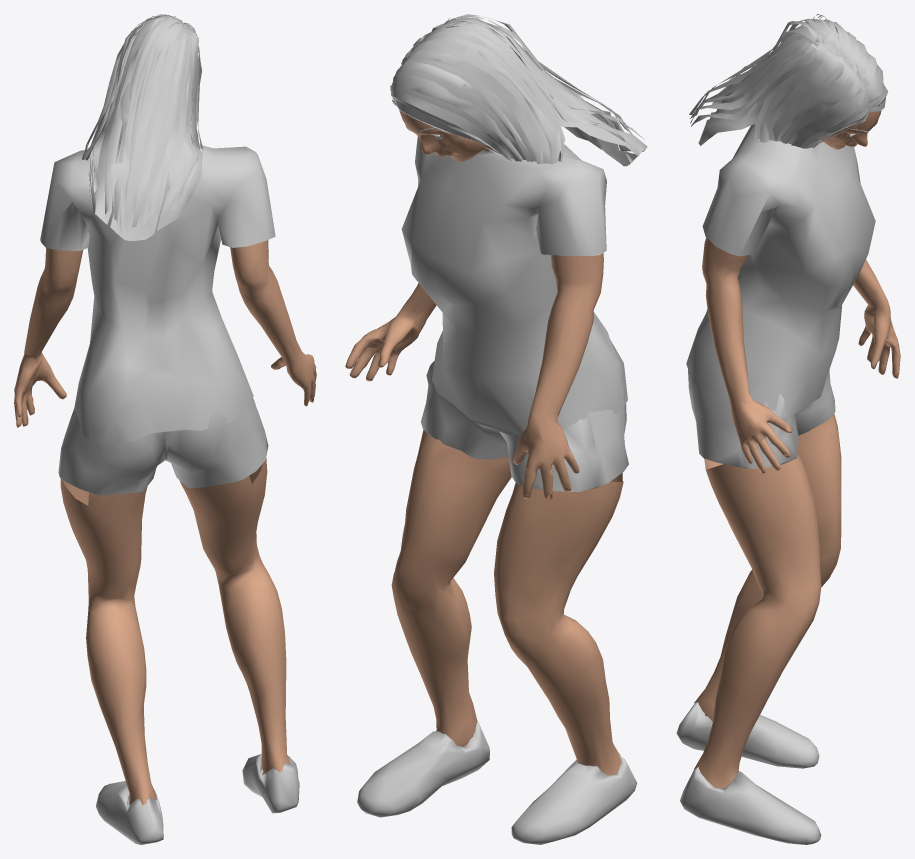
Rendered from player2att_000004.obj.
The picture shows the model from 3 angles, left to right: view 1: azimuth 30°, elevation 25°; view 2: azimuth 150°, elevation 25°; view 3: azimuth 270°, elevation 25°; orthographic projection. The views are drawn at different scales.
Visible parts, largest first — view 1: player2:Body, player2:tshirt02, player2:fhair01, player2:short01, player2:shoes02; view 2: player2:Body, player2:tshirt02, player2:fhair01, player2:shoes02, player2:short01; view 3: player2:Body, player2:tshirt02, player2:fhair01, player2:shoes02, player2:short01.
Boxes of the visible parts, x1,y1,x2,y2 form: player2:Body: [14, 240, 316, 805]; player2:tshirt02: [40, 144, 275, 445]; player2:fhair01: [82, 14, 203, 241]; player2:short01: [58, 398, 268, 495]; player2:shoes02: [96, 754, 299, 844]; player2:Body: [345, 110, 623, 775]; player2:tshirt02: [401, 136, 627, 434]; player2:fhair01: [390, 14, 647, 166]; player2:shoes02: [357, 721, 636, 844]; player2:short01: [421, 361, 628, 491]; player2:Body: [693, 111, 900, 788]; player2:tshirt02: [686, 124, 875, 414]; player2:fhair01: [689, 14, 888, 148]; player2:shoes02: [676, 702, 821, 844]; player2:short01: [688, 360, 835, 468].
Bounding box in the file's own units: 5.62 × 16.22 × 4.26.
